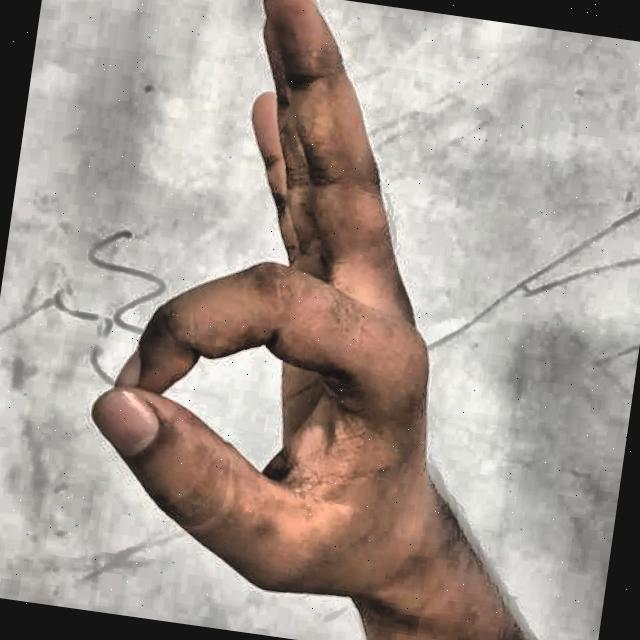Ca: (29, 0, 606, 640)
